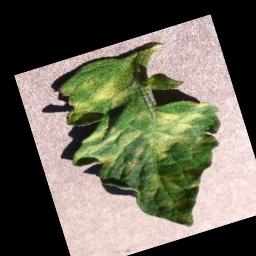Leaf_Mold: (65, 92, 222, 190), (55, 66, 134, 126)
